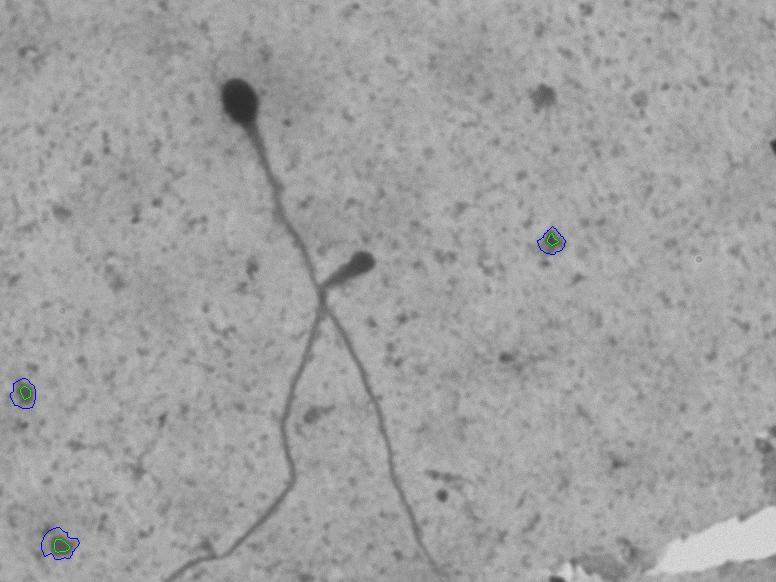Abnormal: (189, 55, 444, 564)
